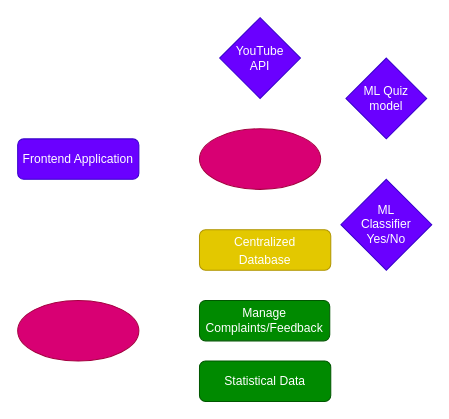
The diagram is 449 pixels wide and 419 high, and some of its shapes have lost their labels. Here are the shapes that lost their labels. From the top down, the centre of each, then its label:
point 259,158: Centralised Server
point 78,330: Admin Panel
